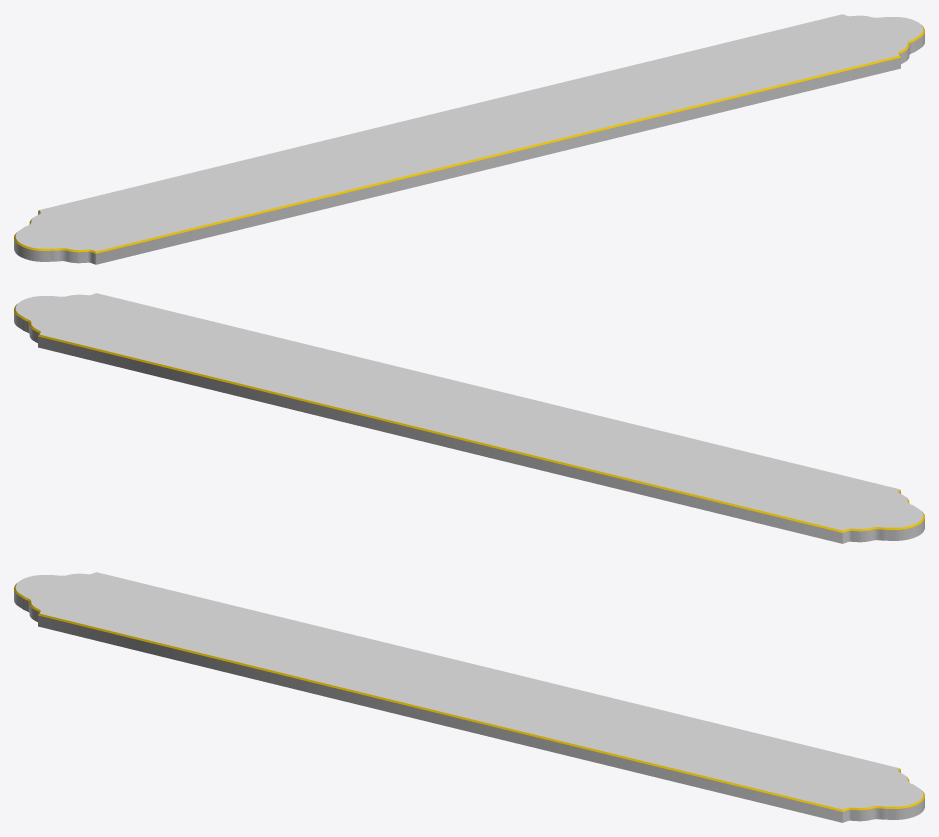
Rendered from The Hilderbrand.glb.
3 views of the same model, one above another, from view 1: azimuth 30°, elevation 25°; view 2: azimuth 150°, elevation 25°; view 3: azimuth 330°, elevation 25° (orthographic).
Parts seen in each view (by area): view 1: 7, BORDERS_curve_.018; view 2: 7, BORDERS_curve_.018; view 3: 7, BORDERS_curve_.018.
Part boxes in pixels (left/top/right/bottom): 7: left=14, top=14, right=924, bottom=264; BORDERS_curve_.018: left=14, top=25, right=924, bottom=253; 7: left=14, top=293, right=924, bottom=543; BORDERS_curve_.018: left=14, top=304, right=924, bottom=532; 7: left=14, top=572, right=924, bottom=822; BORDERS_curve_.018: left=14, top=583, right=924, bottom=811.
Size of the model in its own units: 40 by 0.5281 by 4.5.
